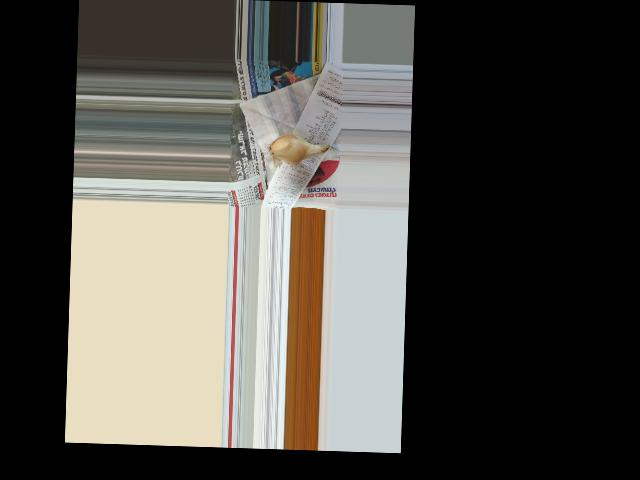onion: (270, 131, 314, 163)
